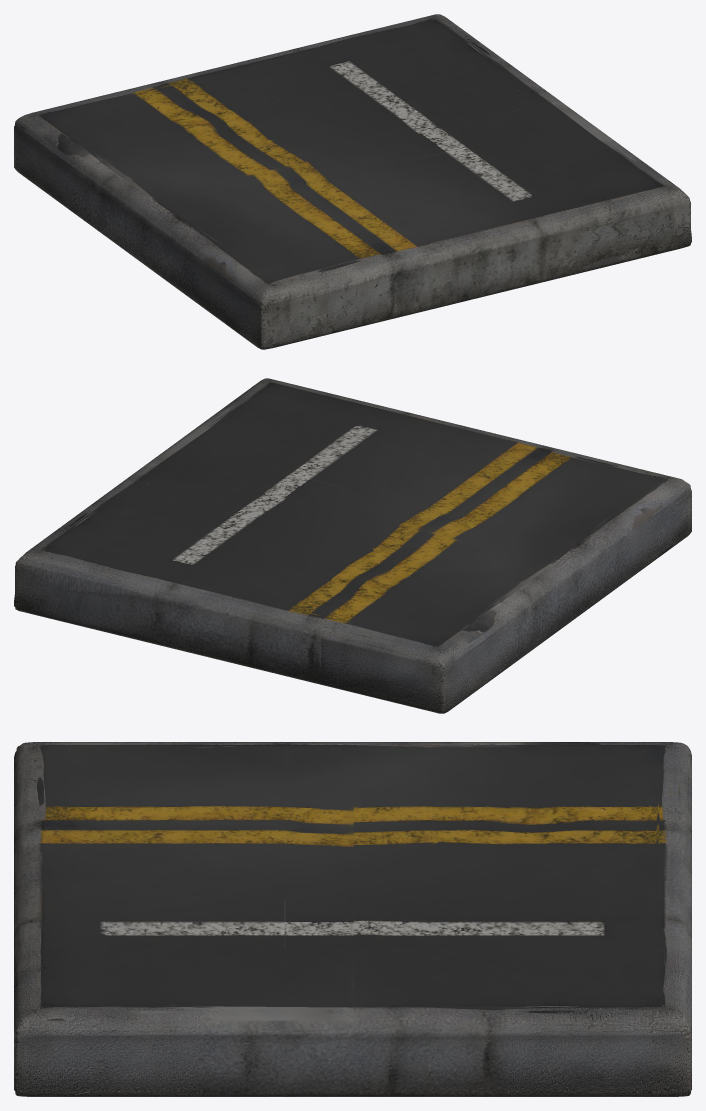
File: ground.glb
3 views of the same model, one above another, from view 1: azimuth 30°, elevation 25°; view 2: azimuth 150°, elevation 25°; view 3: azimuth 270°, elevation 25° (orthographic). The views are drawn at different scales.
Visible parts, largest first — view 1: tripo_node_75eec9e2-3863-4d32-87ee-e1bb6813bb83; view 2: tripo_node_75eec9e2-3863-4d32-87ee-e1bb6813bb83; view 3: tripo_node_75eec9e2-3863-4d32-87ee-e1bb6813bb83.
Part boxes in pixels (box(x1,y1,x2,y2)): tripo_node_75eec9e2-3863-4d32-87ee-e1bb6813bb83: box(14, 14, 691, 349); tripo_node_75eec9e2-3863-4d32-87ee-e1bb6813bb83: box(14, 378, 691, 713); tripo_node_75eec9e2-3863-4d32-87ee-e1bb6813bb83: box(14, 742, 691, 1096).
Bounding box in the file's own units: 4 × 0.5088 × 4.
1 material, 1 textured.
